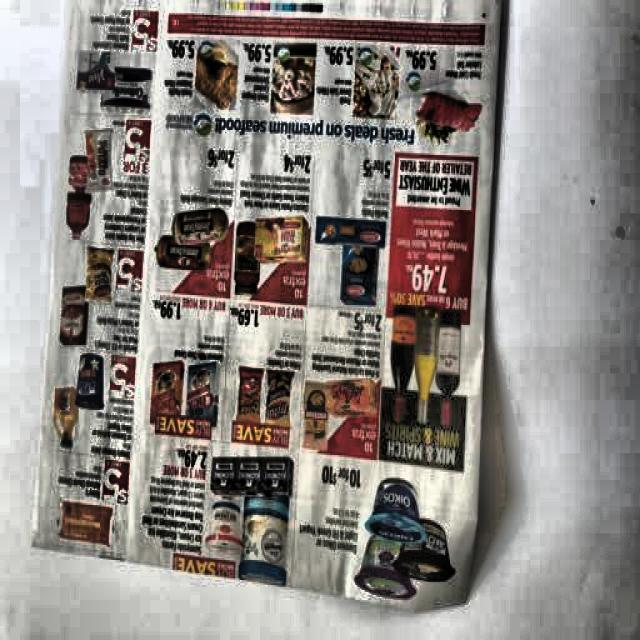paper: (40, 3, 504, 621)
